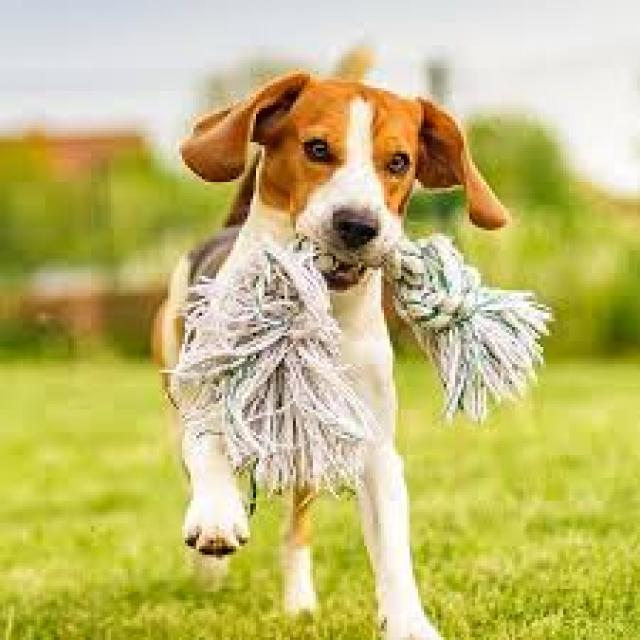Dog: (178, 66, 514, 300)
